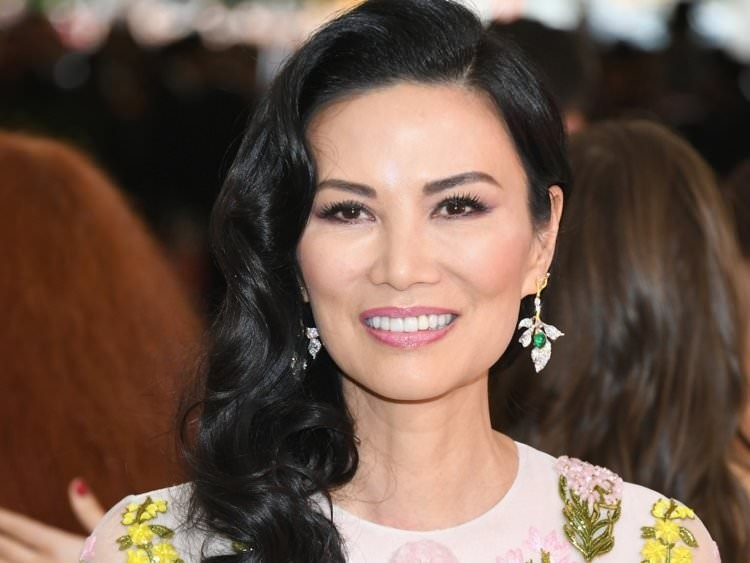face_no_mask: (233, 3, 562, 402)
